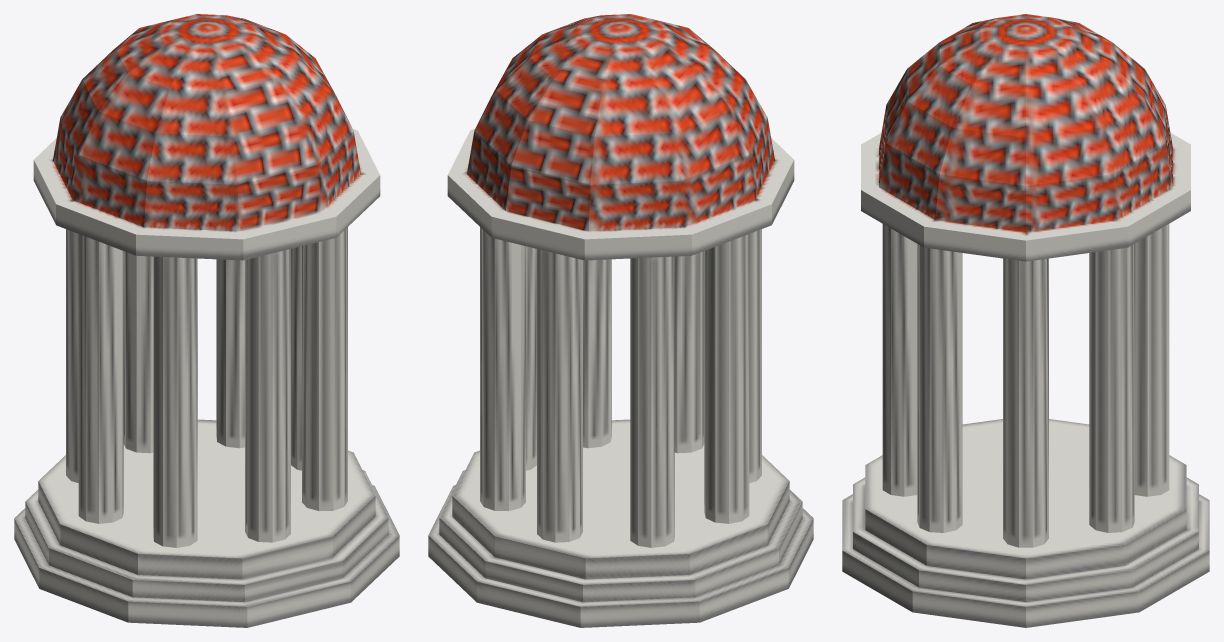
File: Dome.fbx
3 renders of one model, left to right at view 1: azimuth 30°, elevation 25°; view 2: azimuth 150°, elevation 25°; view 3: azimuth 270°, elevation 25°, orthographic.
Parts seen in each view (by area): view 1: Dome1; view 2: Dome1; view 3: Dome1.
Part boxes in pixels (x1,y1,x2,y2): Dome1: [14, 14, 399, 627]; Dome1: [428, 14, 813, 627]; Dome1: [842, 14, 1209, 627].
Size of the model in its own units: 1000 by 1483 by 951.
1 material, 1 textured.
